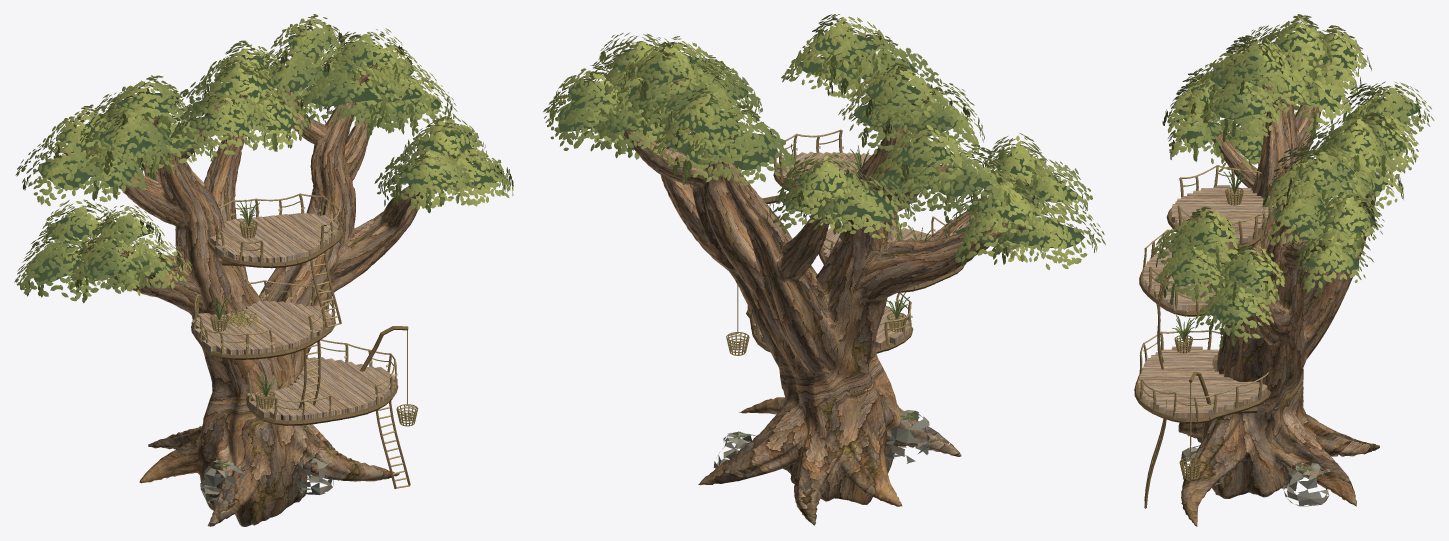
File: longbough-refinement-study.glb
The picture shows the model from 3 angles, left to right: view 1: azimuth 30°, elevation 25°; view 2: azimuth 150°, elevation 25°; view 3: azimuth 270°, elevation 25°; orthographic projection. The views are drawn at different scales.
Parts seen in each view (by area): view 1: crown-foliage, living-wood, study-structure-decks, study-structure-rails-ladders, study-structure-supports, study-structure-root-dressing, study-structure-woven-hood-basket, study-structure-plants; view 2: crown-foliage, living-wood, study-structure-decks, study-structure-root-dressing, study-structure-rails-ladders, study-structure-supports, study-structure-woven-hood-basket; view 3: crown-foliage, living-wood, study-structure-decks, study-structure-rails-ladders, study-structure-supports, study-structure-root-dressing, study-structure-woven-hood-basket, study-structure-plants.
Boxes of the visible parts, x1,y1,x2,y2 form: crown-foliage: (14, 14, 513, 303); living-wood: (53, 52, 453, 526); study-structure-decks: (191, 213, 397, 420); study-structure-rails-ladders: (193, 193, 410, 488); study-structure-supports: (191, 232, 408, 425); study-structure-root-dressing: (200, 457, 333, 506); study-structure-woven-hood-basket: (210, 220, 418, 426); study-structure-plants: (211, 199, 277, 396); crown-foliage: (543, 14, 1105, 269); living-wood: (596, 32, 1034, 525); study-structure-decks: (747, 151, 963, 349); study-structure-root-dressing: (713, 410, 929, 468); study-structure-rails-ladders: (750, 129, 945, 345); study-structure-supports: (746, 171, 964, 353); study-structure-woven-hood-basket: (726, 169, 906, 355); crown-foliage: (1152, 14, 1434, 348); living-wood: (1178, 46, 1379, 526); study-structure-decks: (1137, 185, 1276, 418); study-structure-rails-ladders: (1139, 165, 1278, 508); study-structure-supports: (1134, 192, 1279, 423); study-structure-root-dressing: (1181, 437, 1329, 506); study-structure-woven-hood-basket: (1174, 187, 1243, 479); study-structure-plants: (1172, 167, 1246, 341).
Bounding box in the file's own units: 16.87 × 14.79 × 8.89.
9 materials, 2 textured.
